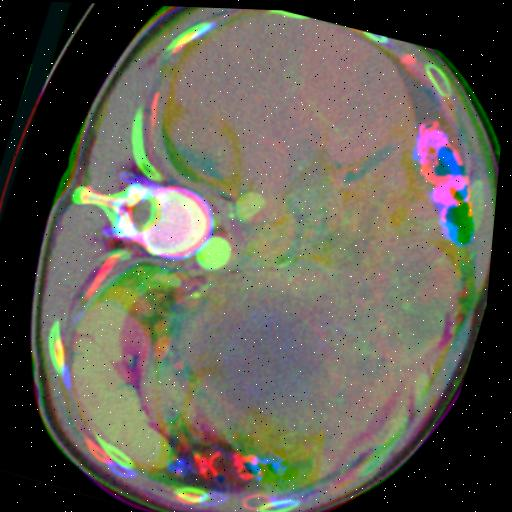Tumor: (341, 219, 464, 360)
